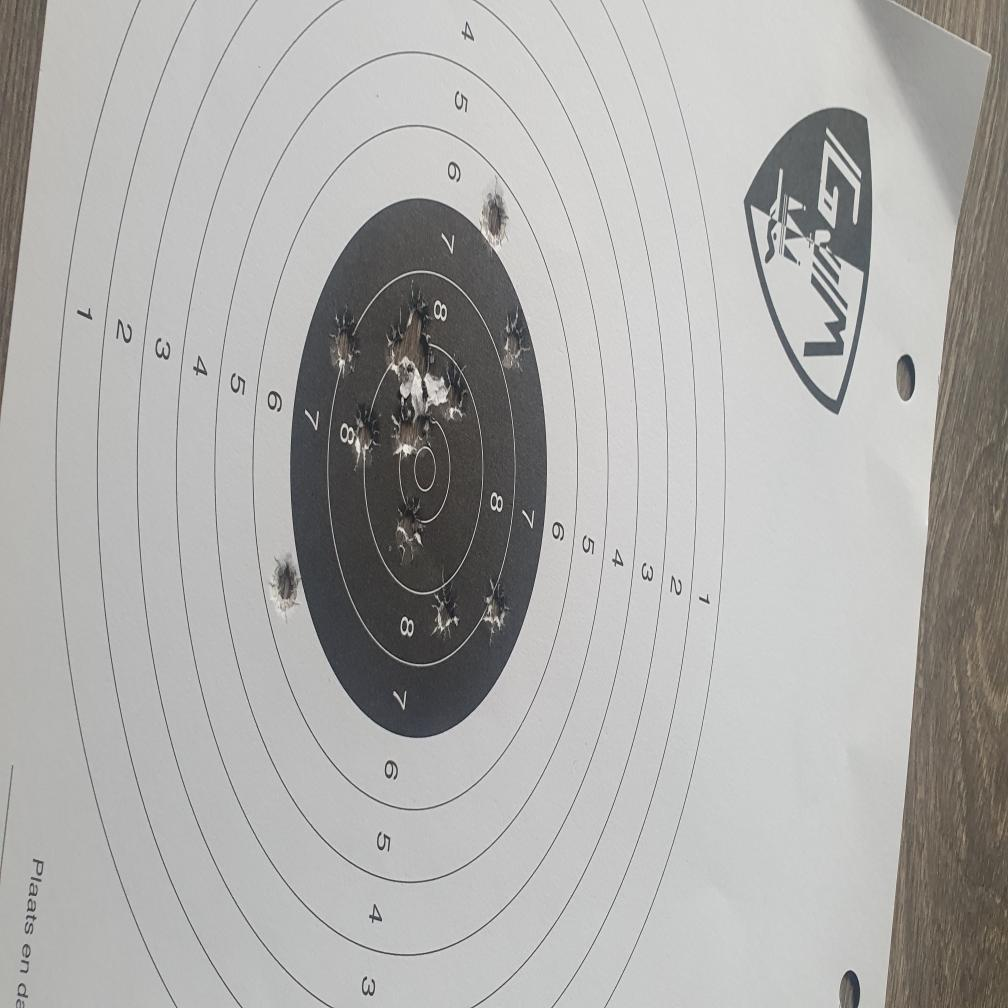10: (393, 490, 424, 563), (395, 405, 417, 460), (414, 399, 435, 447)
6: (266, 552, 304, 622)
7: (477, 174, 510, 256), (500, 308, 532, 378)
8: (326, 304, 360, 377), (486, 568, 510, 639), (403, 292, 428, 342)
9: (349, 402, 382, 472), (432, 568, 460, 638), (442, 365, 467, 425), (384, 322, 408, 373), (409, 342, 433, 389)
Target: (56, 0, 728, 1008)
black_contour: (288, 198, 547, 740)
